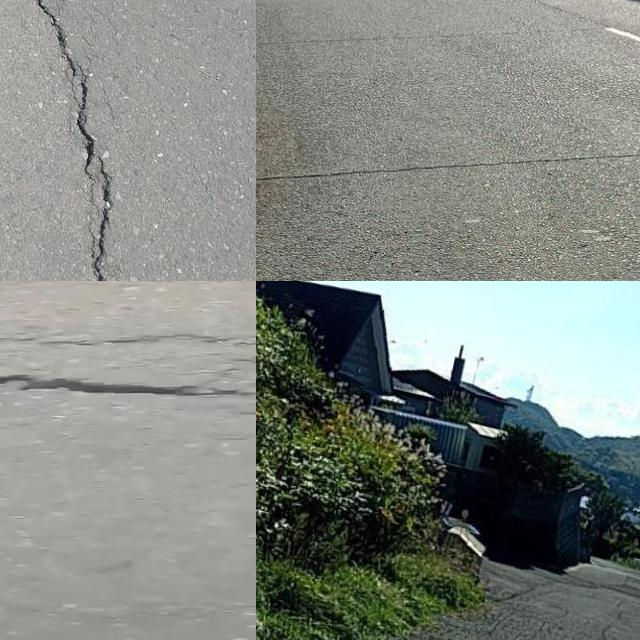Melintang: (256, 143, 640, 192), (0, 359, 256, 413)
Memanjang: (18, 0, 123, 281)
